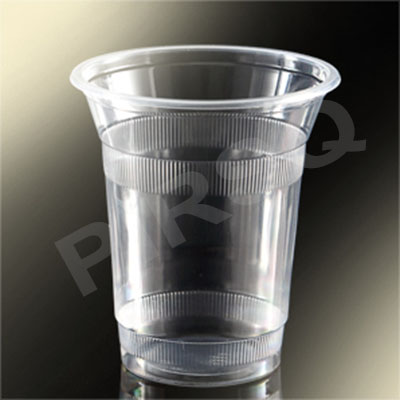plastic_bottle: (67, 39, 346, 394)
